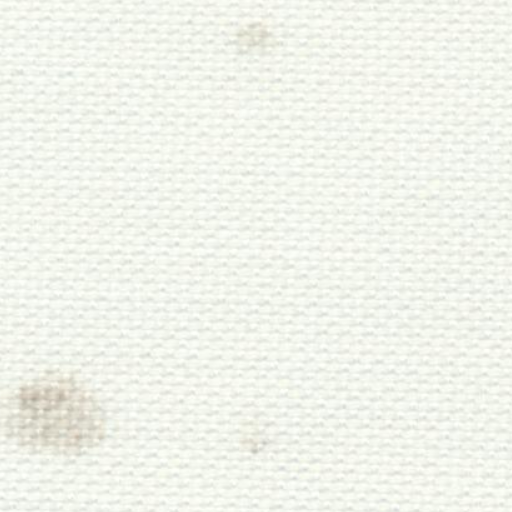WuZi: (6, 362, 117, 470), (220, 11, 288, 70), (236, 406, 284, 466)
